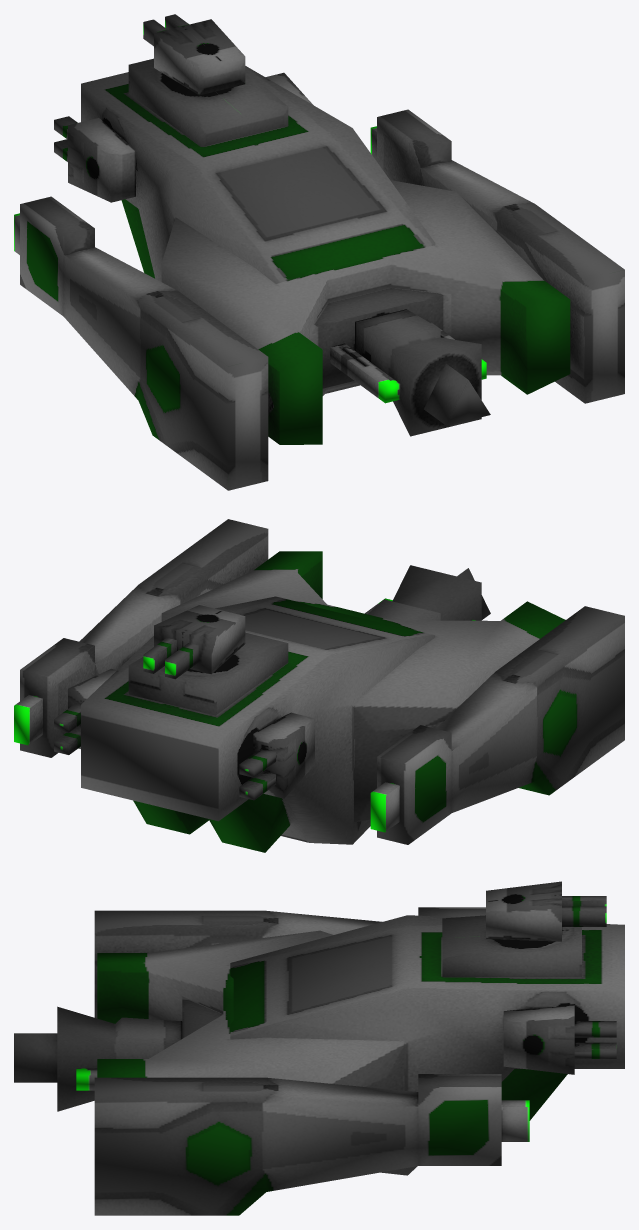
File: UFrigate.fbx
3 renders of one model, top to bottom at view 1: azimuth 30°, elevation 25°; view 2: azimuth 150°, elevation 25°; view 3: azimuth 270°, elevation 25°, orthographic. The views are drawn at different scales.
Parts seen in each view (by area): view 1: UnionFrigateMod; view 2: UnionFrigateMod; view 3: UnionFrigateMod.
Boxes of the visible parts, box(x1,y1,x2,y2) form: UnionFrigateMod: box(14, 14, 624, 490); UnionFrigateMod: box(14, 519, 624, 852); UnionFrigateMod: box(14, 881, 624, 1215).
Bounding box in the file's own units: 26.5 × 15.91 × 36.88.
Materials: 1 (1 with a texture image).
